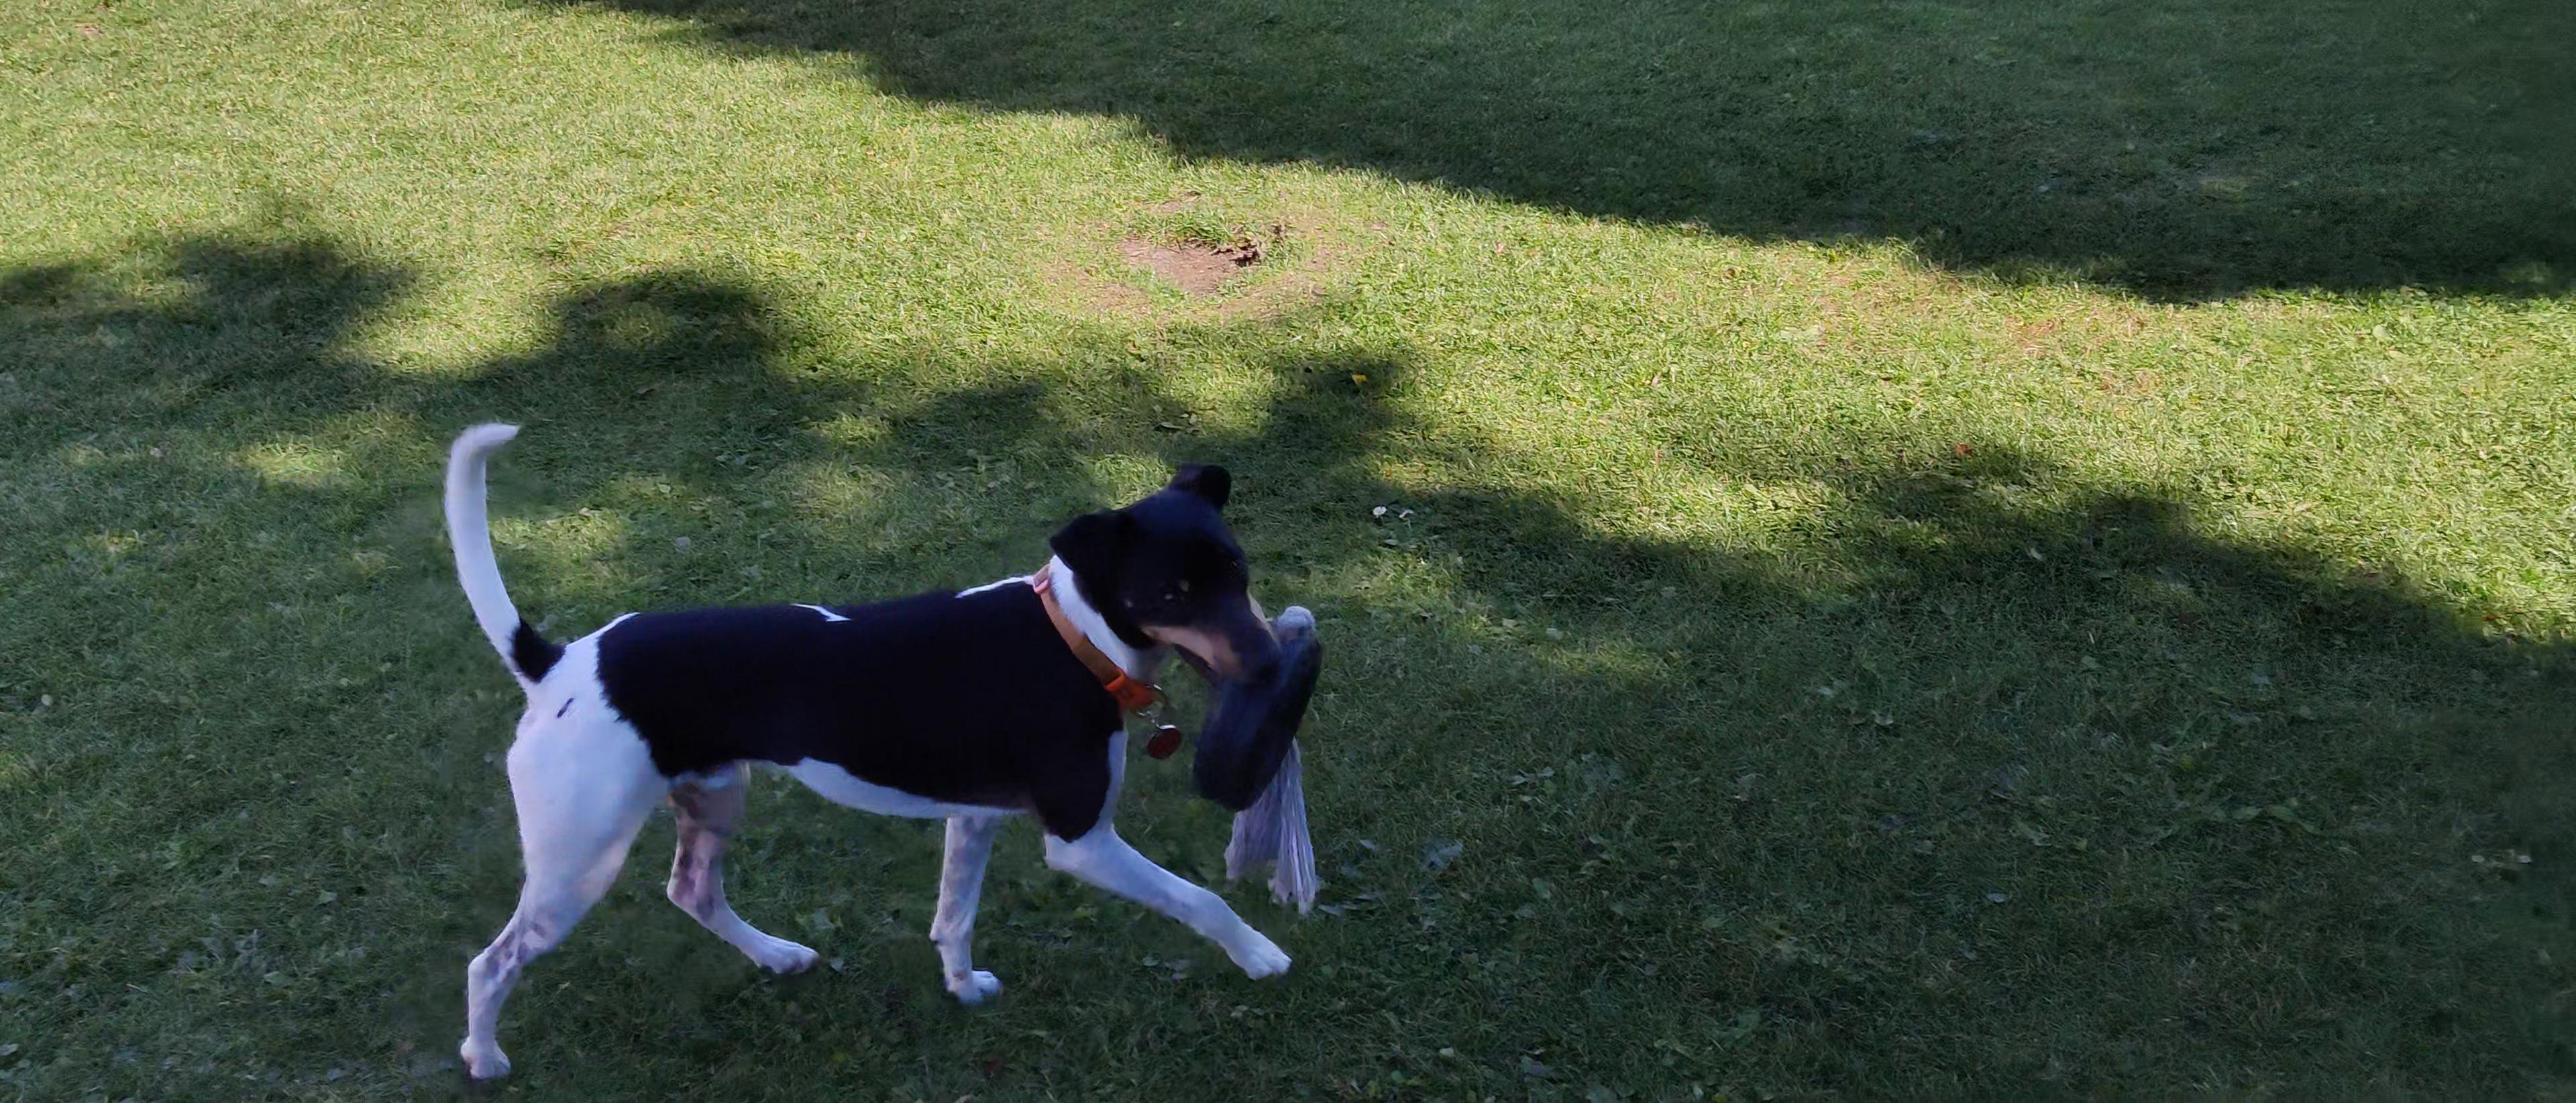Dog: (439, 419, 1299, 1083)
